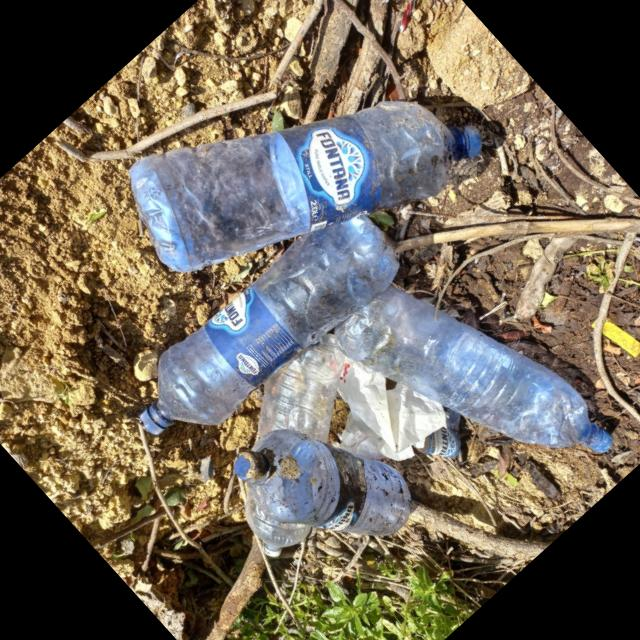Bottle: (126, 97, 482, 275), (137, 213, 400, 434), (338, 287, 613, 454), (234, 427, 412, 537), (257, 335, 347, 443), (246, 495, 309, 555)
Other plastic: (332, 357, 461, 460)
Paper: (592, 316, 640, 357)
